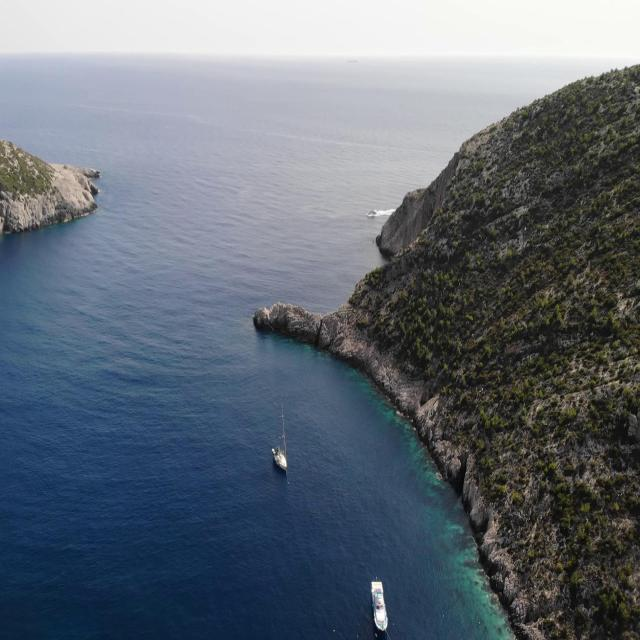boat: (369, 578, 390, 632)
sailboat: (272, 404, 288, 478)
